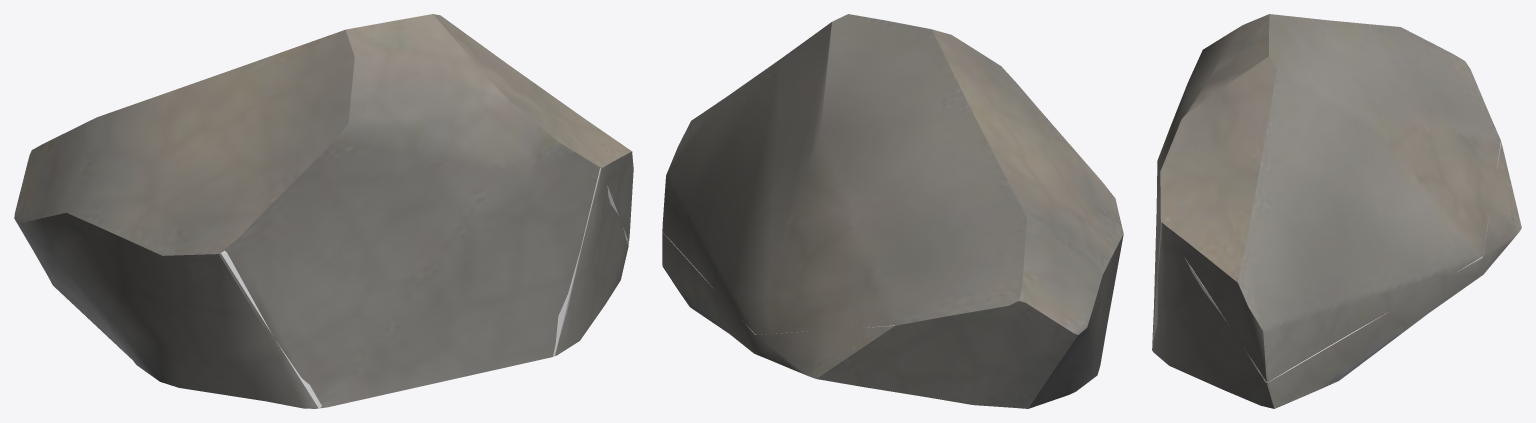
Rendered from IO_Stone_Small_D.glb.
The picture shows the model from 3 angles, left to right: view 1: azimuth 30°, elevation 25°; view 2: azimuth 150°, elevation 25°; view 3: azimuth 270°, elevation 25°; orthographic projection. The views are drawn at different scales.
Visible parts, largest first — view 1: IO_Stone_Small_D_LOD0, IO_Stone_Small_D_COL; view 2: IO_Stone_Small_D_LOD0; view 3: IO_Stone_Small_D_LOD0, IO_Stone_Small_D_COL.
Boxes of the visible parts, x1,y1,x2,y2 form: IO_Stone_Small_D_LOD0: (14, 14, 633, 408); IO_Stone_Small_D_COL: (220, 168, 628, 408); IO_Stone_Small_D_LOD0: (662, 14, 1123, 408); IO_Stone_Small_D_LOD0: (1152, 14, 1521, 408); IO_Stone_Small_D_COL: (1152, 141, 1501, 382).
Size of what is drawn, in the model's own units: 0.13 by 0.074 by 0.09.
Materials: 1 (1 with a texture image).
